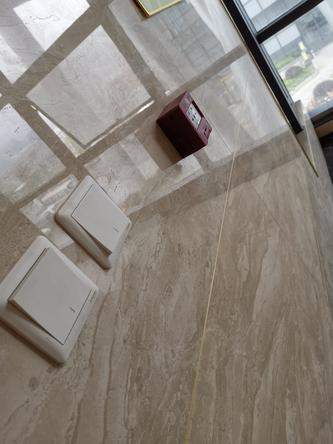switch: (9, 246, 99, 352), (64, 181, 141, 254)
